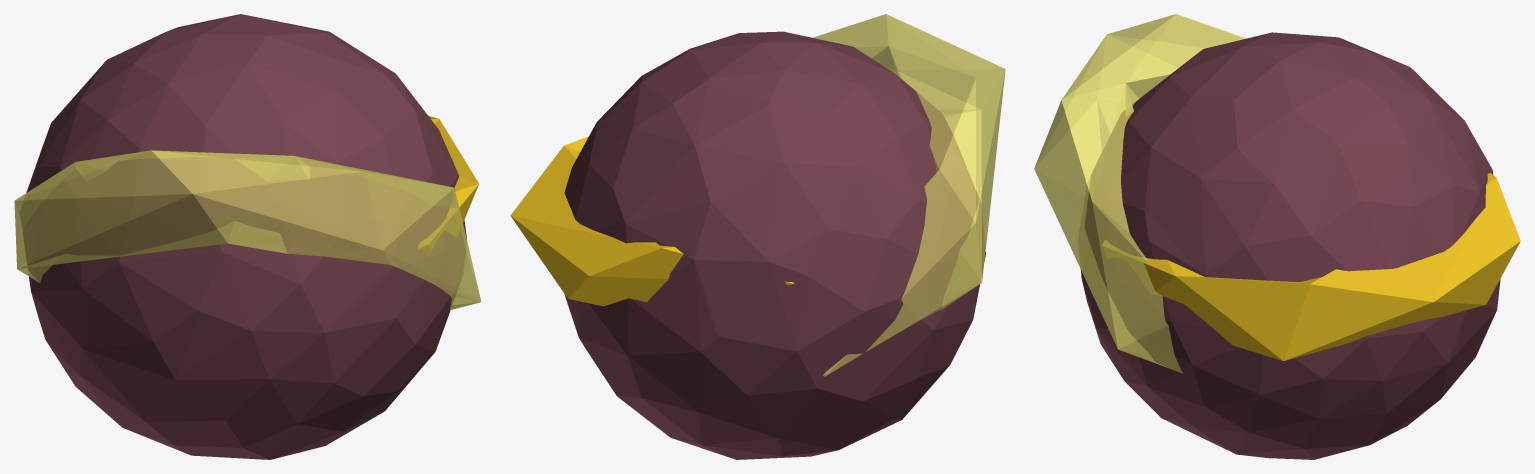
Rendered from ore_planet8.fbx.
3 renders of one model, left to right at view 1: azimuth 30°, elevation 25°; view 2: azimuth 150°, elevation 25°; view 3: azimuth 270°, elevation 25°, orthographic. The views are drawn at different scales.
Parts seen in each view (by area): view 1: ore_planet8; view 2: ore_planet8; view 3: ore_planet8.
Part boxes in pixels (x1=…): ore_planet8: x1=14, y1=14, x2=481, y2=459; ore_planet8: x1=510, y1=14, x2=1005, y2=459; ore_planet8: x1=1034, y1=14, x2=1520, y2=459.
Size of the model in its own units: 229 by 199 by 228.
